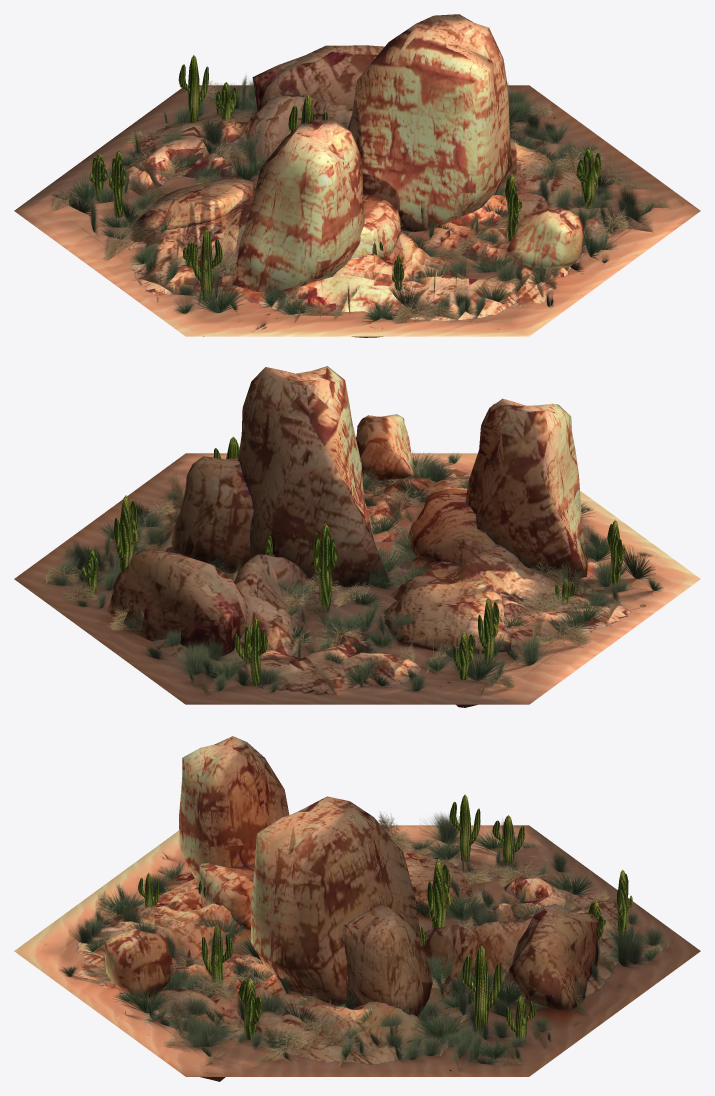
The model's file is subtropical_desert_2_0_no_light_baked.glb.
3 renders of one model, top to bottom at view 1: azimuth 30°, elevation 25°; view 2: azimuth 150°, elevation 25°; view 3: azimuth 270°, elevation 25°, orthographic.
Visible parts, largest first — view 1: subtropicaldesert_2_0; view 2: subtropicaldesert_2_0; view 3: subtropicaldesert_2_0.
Boxes of the visible parts, box(x1,y1,x2,y2) form: subtropicaldesert_2_0: box(14, 14, 700, 337); subtropicaldesert_2_0: box(14, 366, 700, 707); subtropicaldesert_2_0: box(14, 736, 700, 1081).
Size of the model in its own units: 1.73 by 0.6505 by 2.
Materials: 4 (4 with a texture image).
